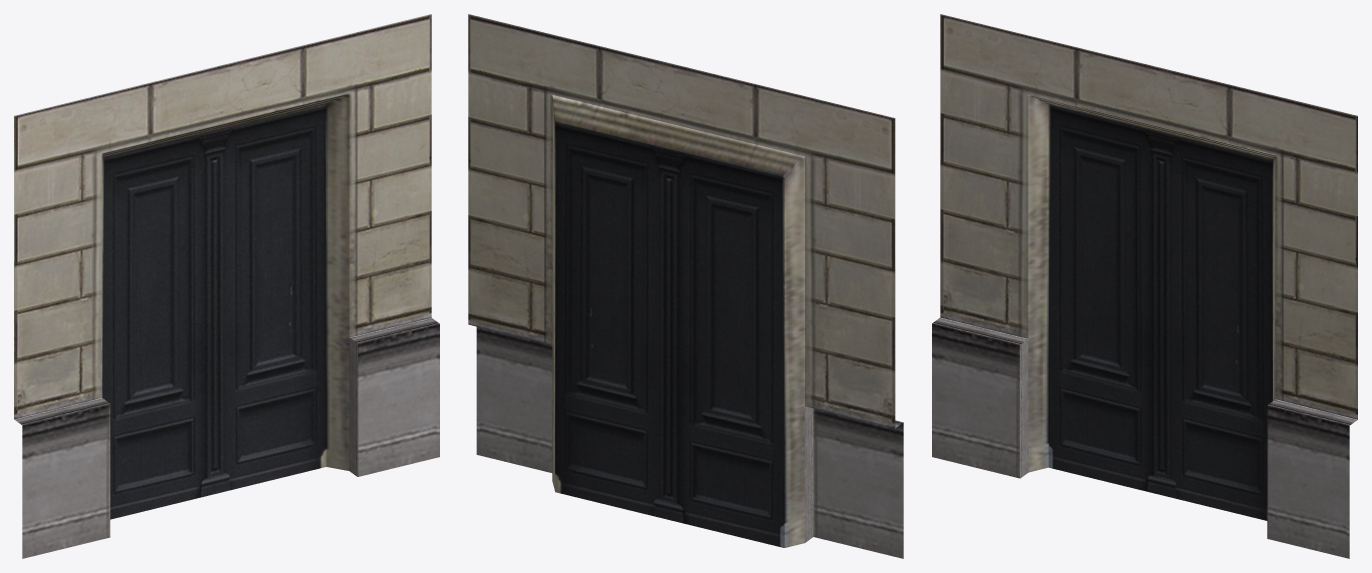
Rendered from tuer.obj.
3 views of the same model, side by side, from view 1: azimuth 30°, elevation 25°; view 2: azimuth 150°, elevation 25°; view 3: azimuth 330°, elevation 25° (orthographic). The views are drawn at different scales.
Parts seen in each view (by area): view 1: polySurface6 polySurface3 polySurface1 pCube1; view 2: polySurface6 polySurface3 polySurface1 pCube1; view 3: polySurface6 polySurface3 polySurface1 pCube1.
Part boxes in pixels (x1,y1,x2,y2): polySurface6 polySurface3 polySurface1 pCube1: [14, 14, 439, 558]; polySurface6 polySurface3 polySurface1 pCube1: [468, 14, 903, 558]; polySurface6 polySurface3 polySurface1 pCube1: [932, 14, 1357, 558].
Bounding box in the file's own units: 0.5 × 0.5 × 0.0379.
Materials: 1 (1 with a texture image).
